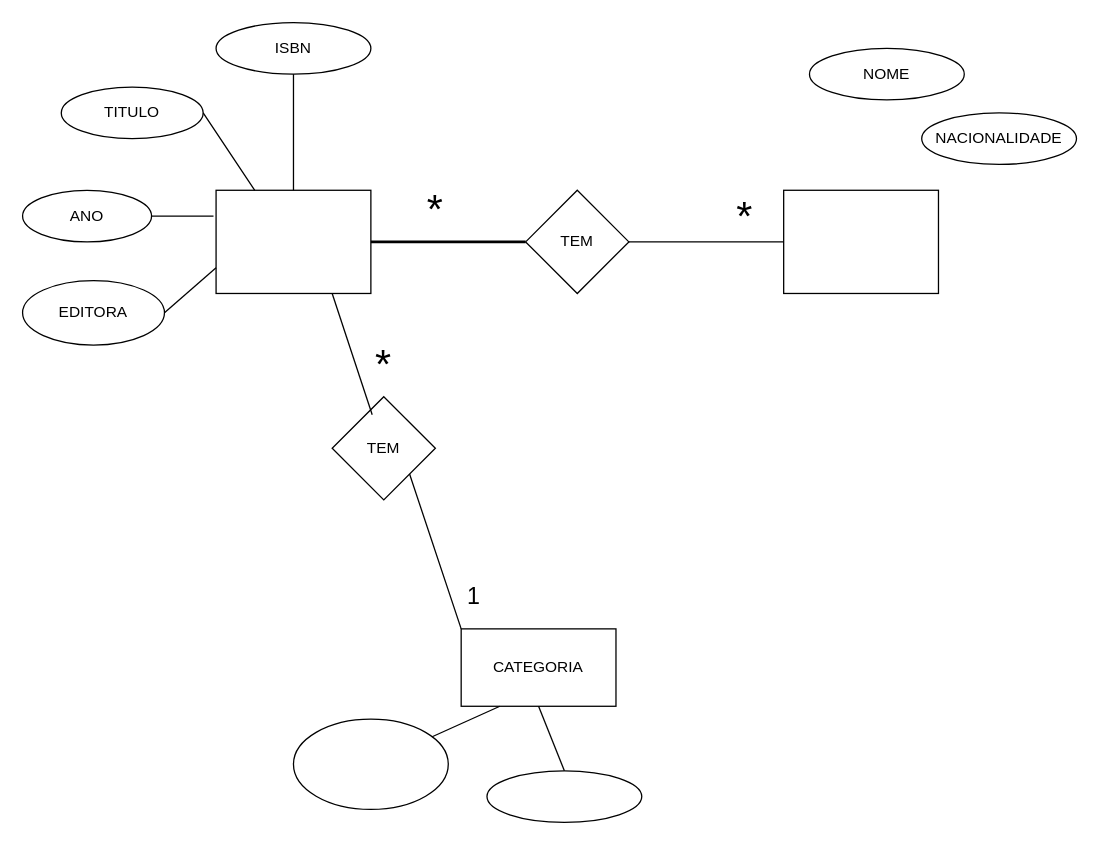
This 1099x845 diagram has some shape labels left out. Each missing label, with the centre of its shape:
AUTOR: the point at 860,241
CÓDIGO DA CATEGORIA: the point at 370,763
DESCRIÇÃO: the point at 564,795
LIVRO: the point at 293,241
